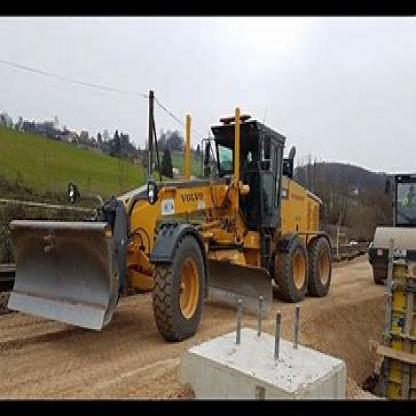bull_dozer/loader/grader: (94, 87, 344, 347)
